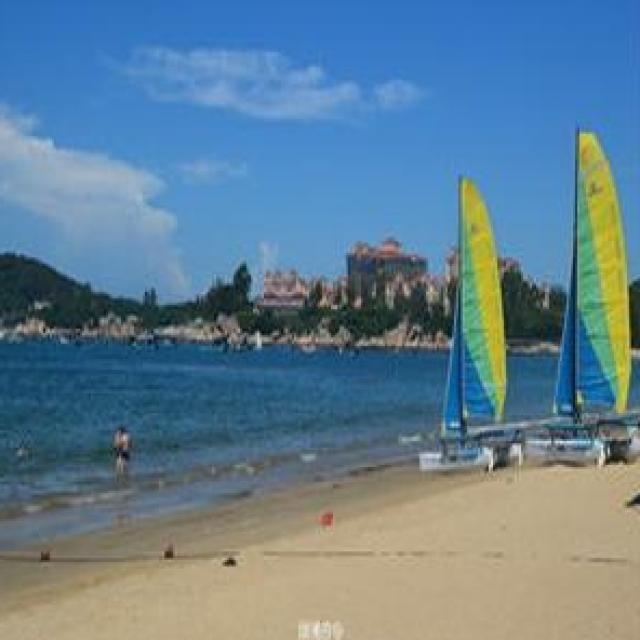sailboat: (497, 110, 634, 477), (412, 172, 498, 476)
